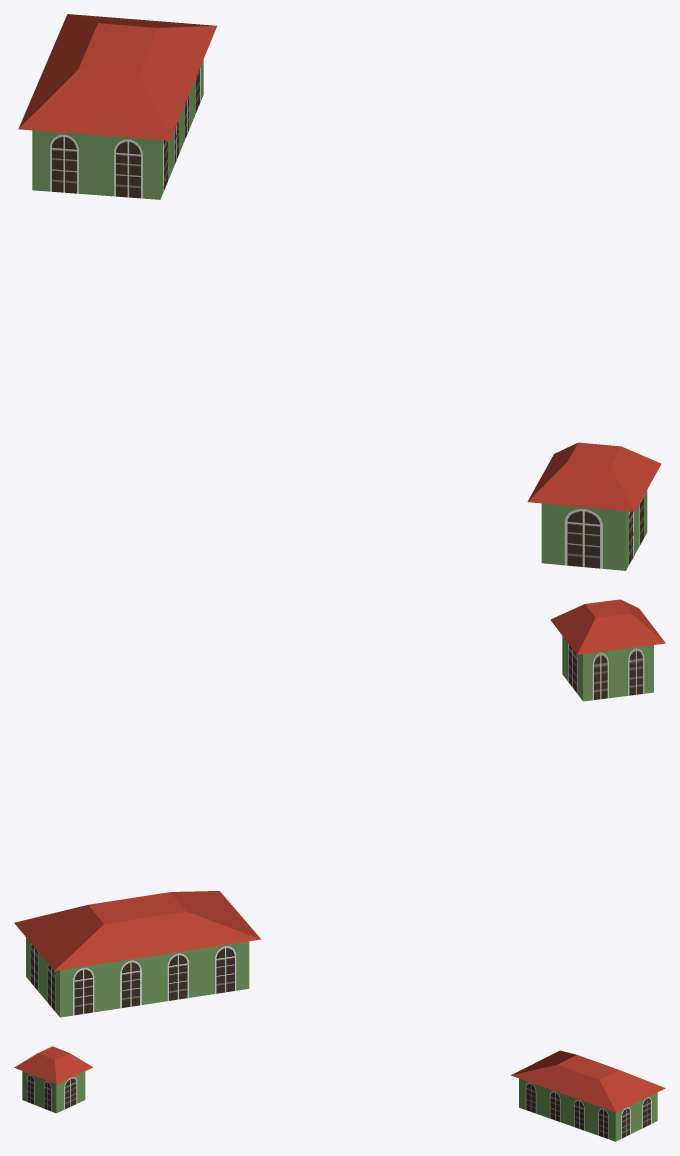
Rendered from ckiosk_c.glb.
3 renders of one model, top to bottom at view 1: azimuth 30°, elevation 25°; view 2: azimuth 150°, elevation 25°; view 3: azimuth 270°, elevation 25°, orthographic. The views are drawn at different scales.
Visible parts, largest first — view 1: ckiosk_c_lod0; view 2: ckiosk_c_lod0; view 3: ckiosk_c_lod0.
Boxes of the visible parts, <box> form: ckiosk_c_lod0: <box>18,14,661,570</box>; ckiosk_c_lod0: <box>14,599,665,1017</box>; ckiosk_c_lod0: <box>14,1046,665,1141</box>.
Size of what is drawn, in the model's own units: 14.79 by 5.2 by 65.39.
3 materials, 1 textured.
